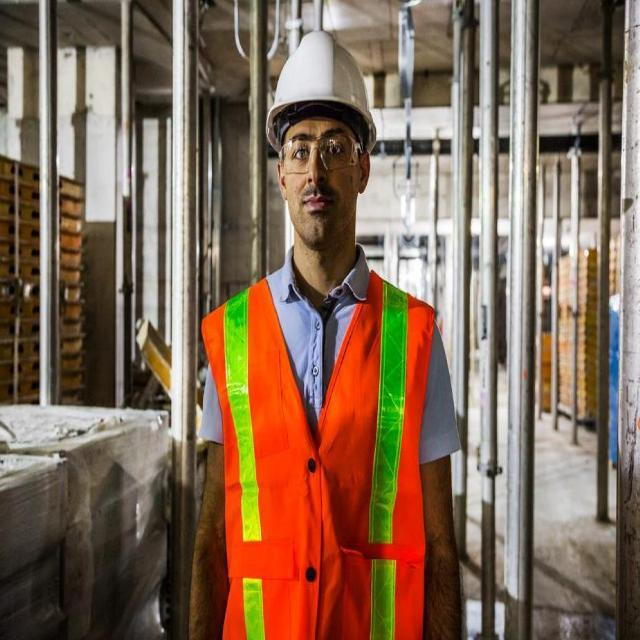Helmet: (258, 30, 383, 247)
Vest: (195, 267, 455, 640)
